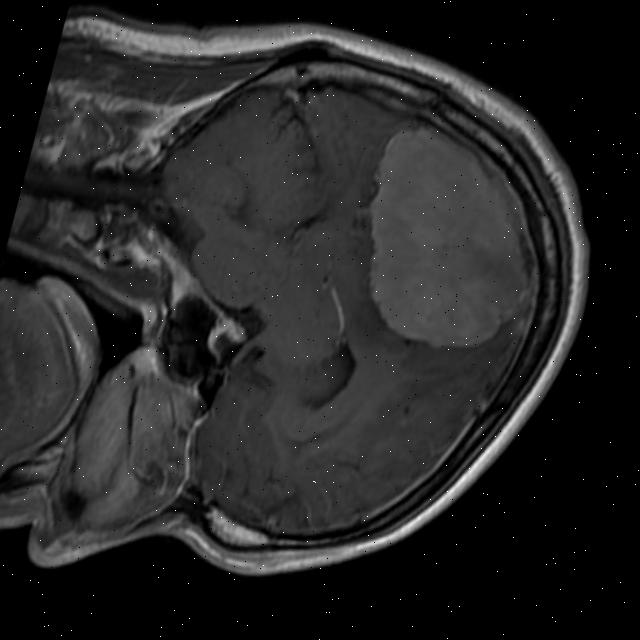Meningioma: (328, 105, 571, 377)
